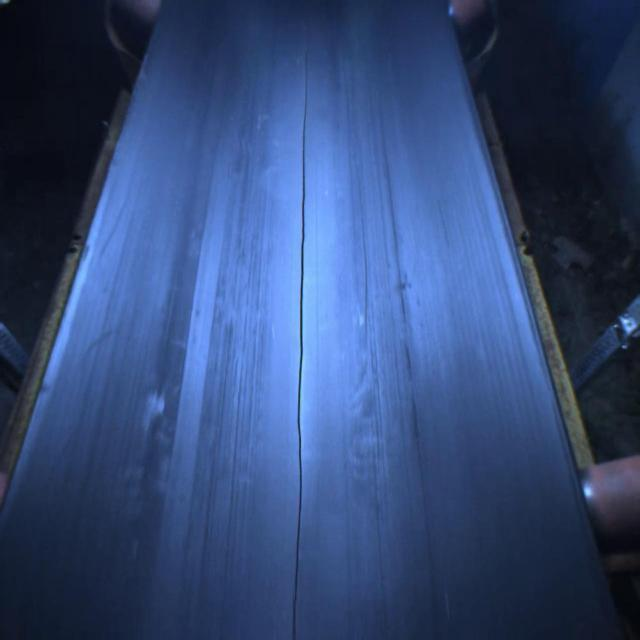Tear: (287, 42, 316, 640)
